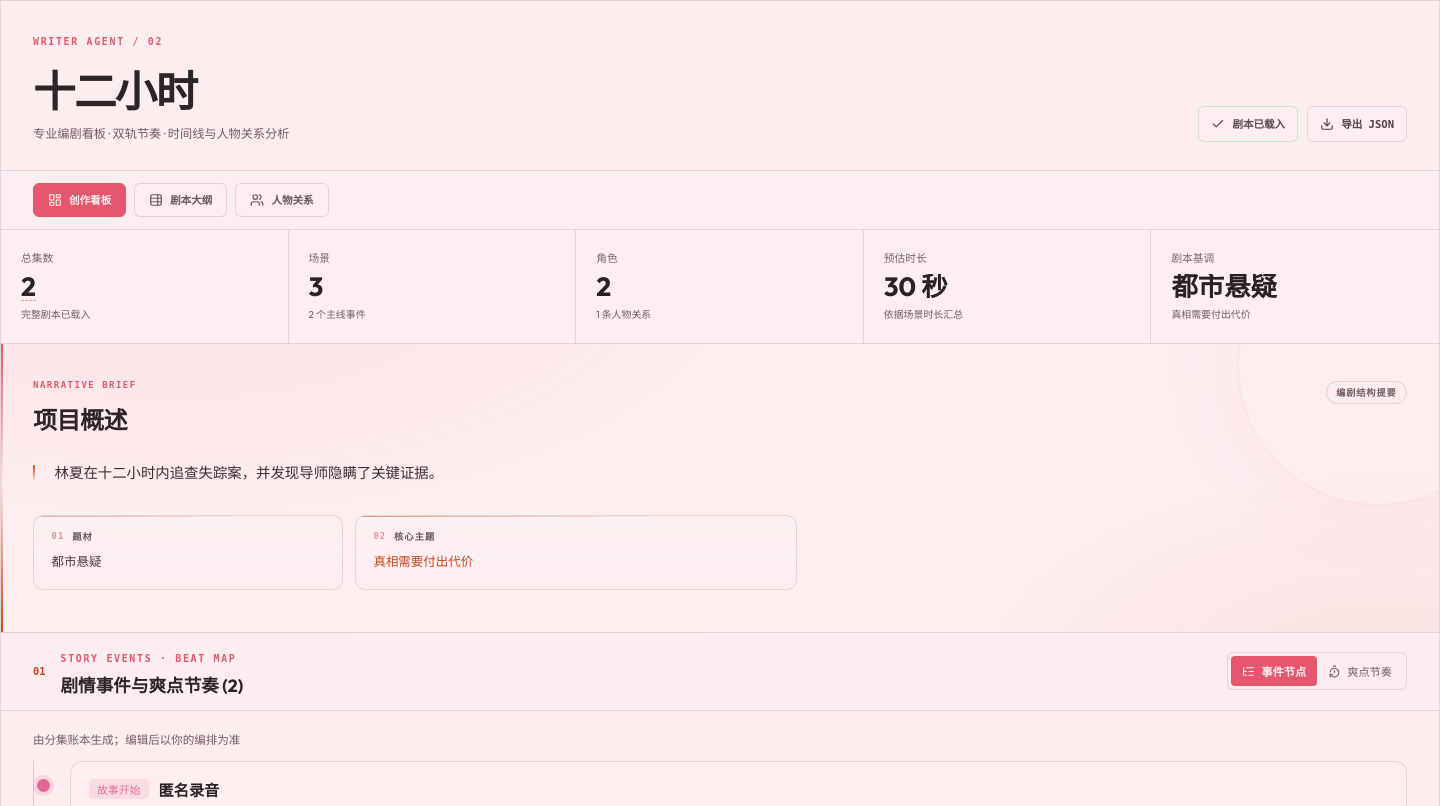
Test case: WriterAgentPage › renders the writer dashboard with timeline, episodes and relationship graph
Expected: the heading "十二小时" is shown, x1=33 y1=65 x2=197 y2=118
Expected: the heading "剧情事件与爽点节奏 (2)" is shown, x1=60 y1=672 x2=243 y2=697
Click the button "爽点节奏" at (1360, 671), box x1=1317 y1=656 x2=1403 y2=686
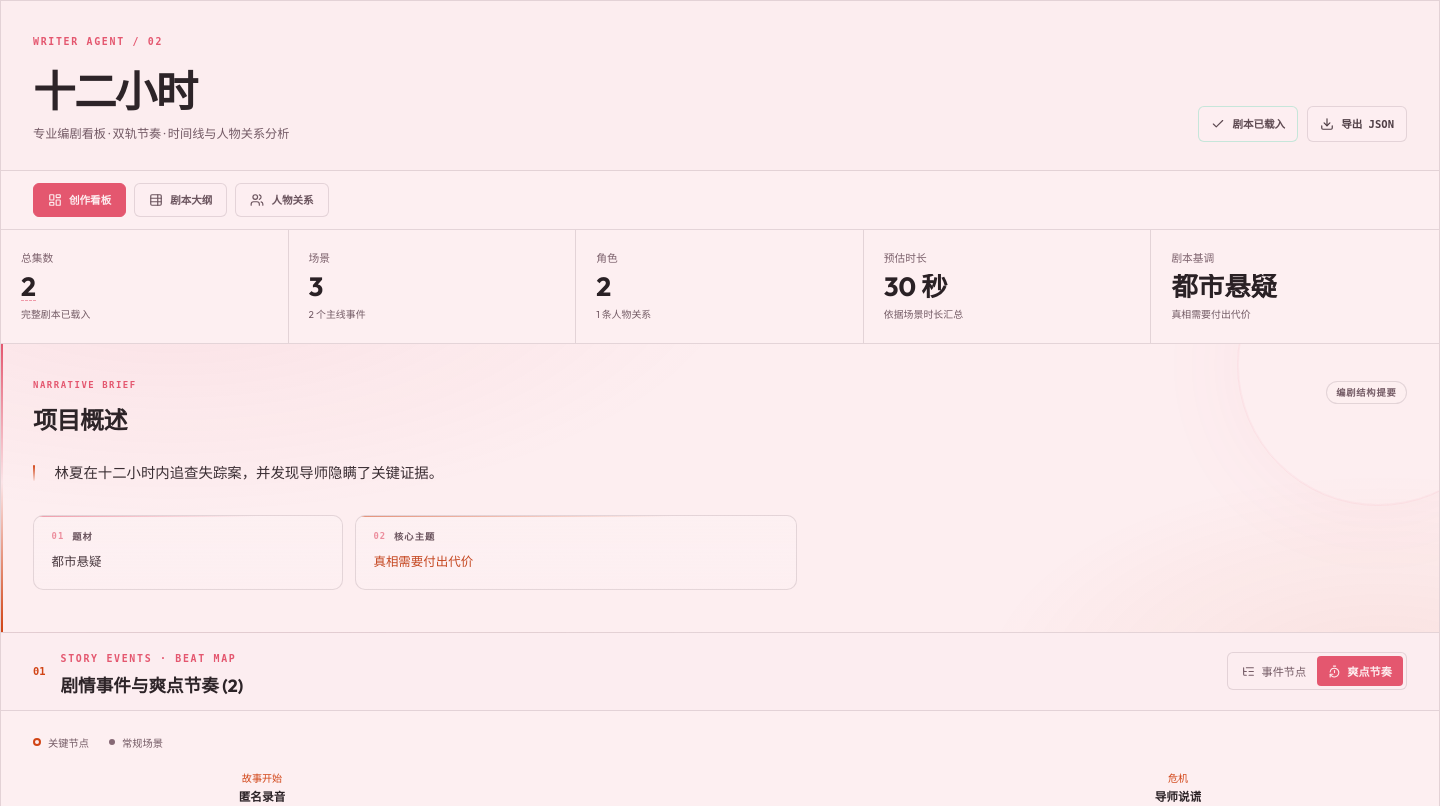
Result: the button "爽点节奏" is pressed at x1=1317 y1=656 x2=1403 y2=686
Click the button "事件节点" at (1274, 671), box x1=1232 y1=656 x2=1317 y2=686
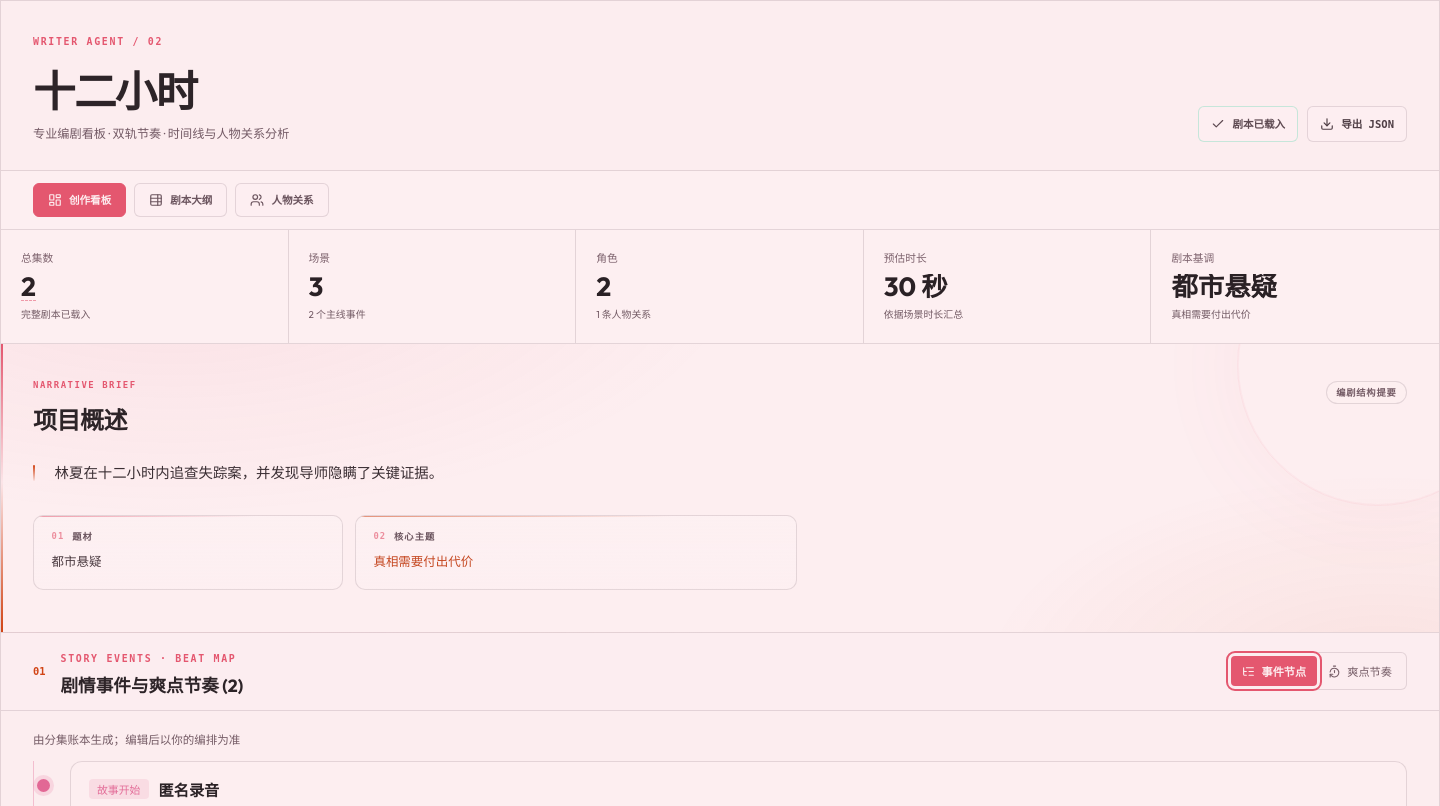
Note: The character network is its own page.
Click the button "人物关系" at (282, 200), box x1=235 y1=183 x2=329 y2=217
(page scrolled)
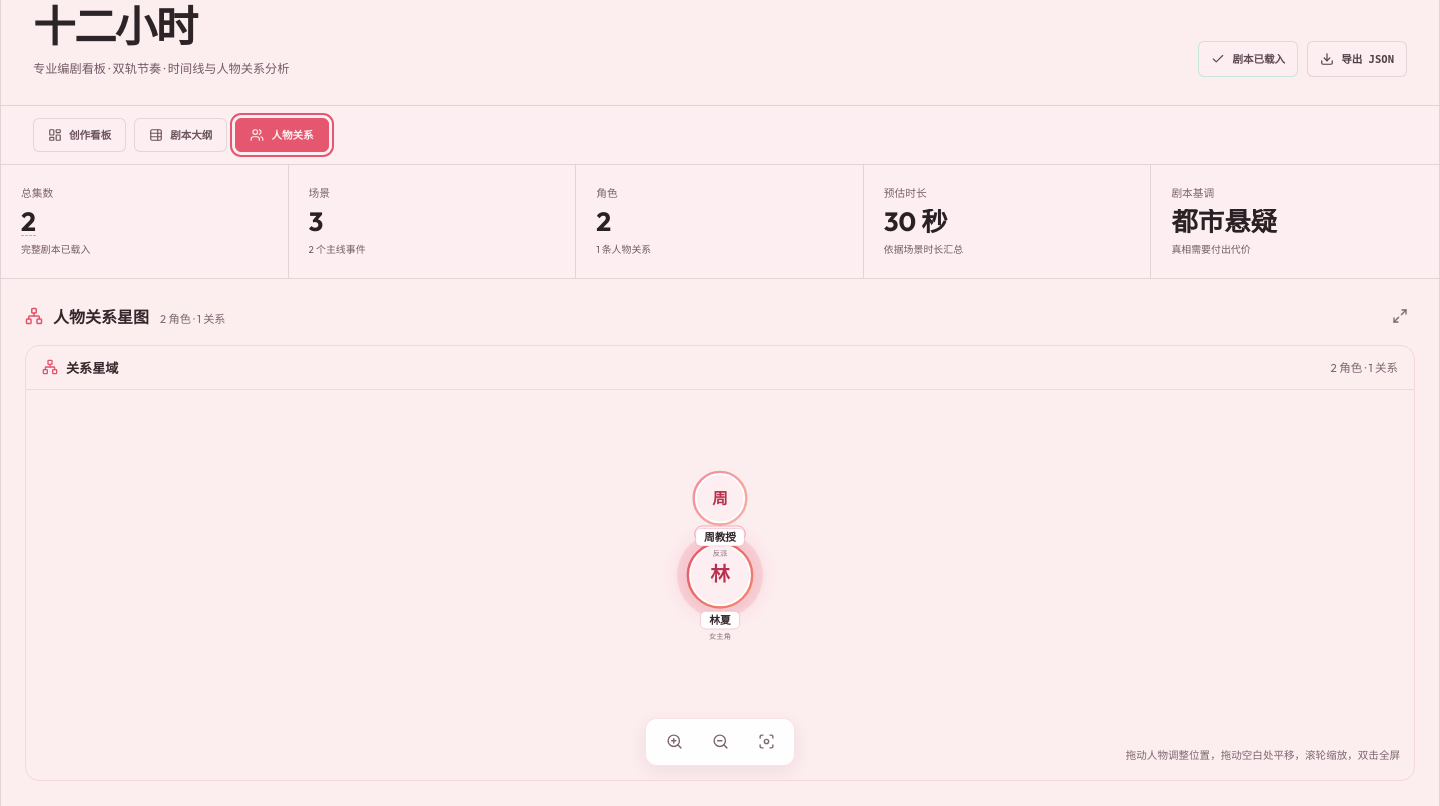
Result: the picture named "2名角色、1条人物关系" is shown at x1=26 y1=390 x2=1414 y2=780
